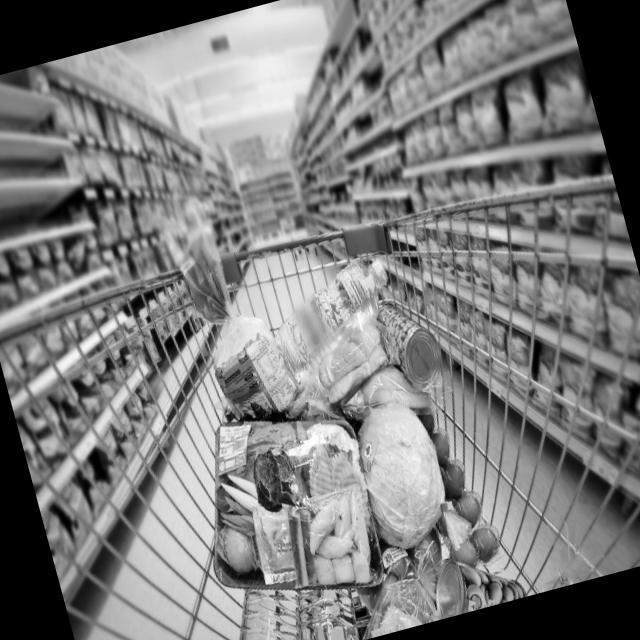banh mi: (170, 225, 300, 433)
bap cai: (343, 392, 465, 560)
dau: (254, 248, 406, 372)
tao: (350, 524, 454, 621)
trung: (406, 399, 504, 580)
